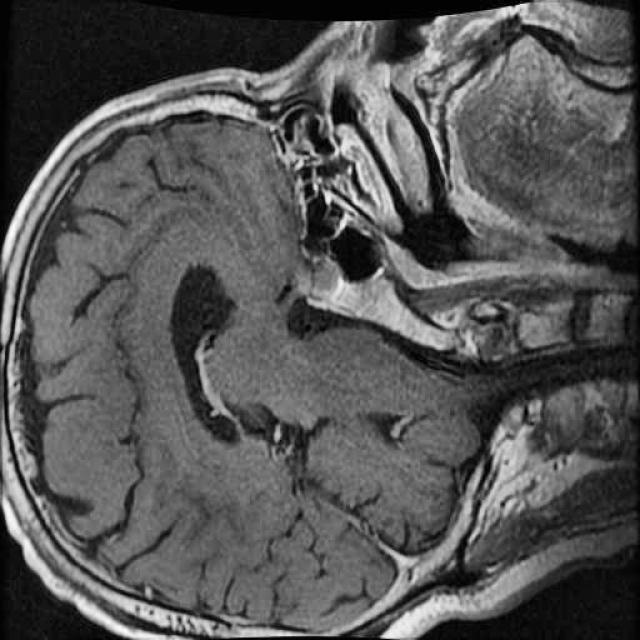Tumor: (285, 250, 348, 315)
